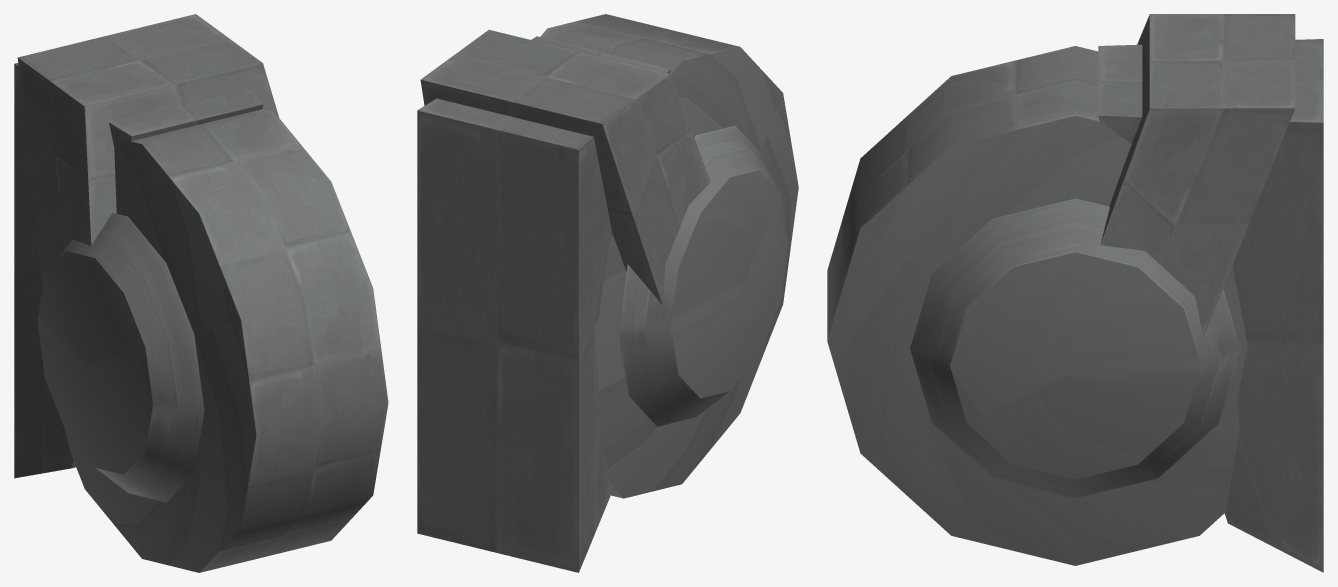
File: model_machine.glb
3 renders of one model, left to right at view 1: azimuth 30°, elevation 25°; view 2: azimuth 150°, elevation 25°; view 3: azimuth 270°, elevation 25°, orthographic. The views are drawn at different scales.
Visible parts, largest first — view 1: siegewheel.model_machine-MeshNodes["mesh_wheel"], siegewheel.model_machine-MeshNodes["mesh_machine"]; view 2: siegewheel.model_machine-MeshNodes["mesh_machine"], siegewheel.model_machine-MeshNodes["mesh_wheel"]; view 3: siegewheel.model_machine-MeshNodes["mesh_machine"], siegewheel.model_machine-MeshNodes["mesh_wheel"].
Part boxes in pixels (left/top/right/bottom): siegewheel.model_machine-MeshNodes["mesh_wheel"]: left=65, top=109, right=388, bottom=572; siegewheel.model_machine-MeshNodes["mesh_machine"]: left=14, top=14, right=279, bottom=502; siegewheel.model_machine-MeshNodes["mesh_machine"]: left=417, top=29, right=788, bottom=572; siegewheel.model_machine-MeshNodes["mesh_wheel"]: left=540, top=14, right=798, bottom=498; siegewheel.model_machine-MeshNodes["mesh_machine"]: left=910, top=14, right=1323, bottom=572; siegewheel.model_machine-MeshNodes["mesh_wheel"]: left=827, top=46, right=1247, bottom=565.
Size of the model in its own units: 1.89 by 3.13 by 3.
1 material, 1 textured.
